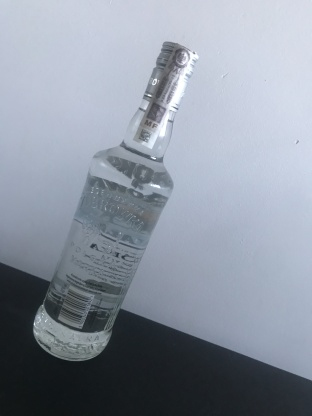nakretka: (140, 39, 200, 115), (141, 38, 200, 114)
